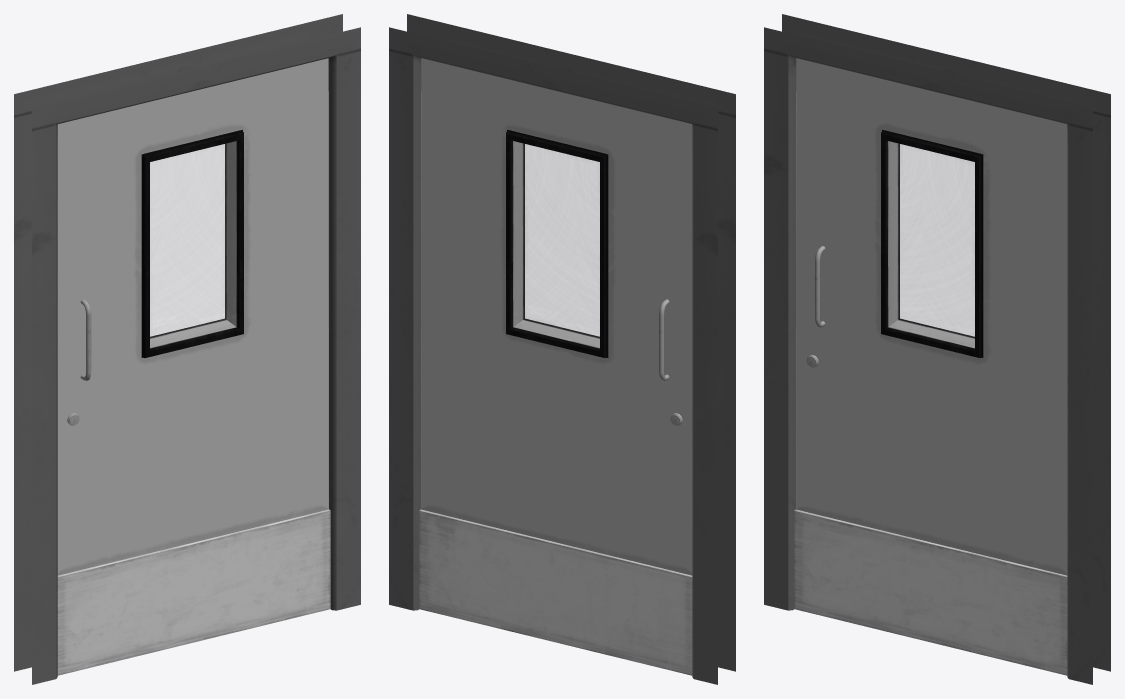
3 renders of one model, left to right at view 1: azimuth 30°, elevation 25°; view 2: azimuth 150°, elevation 25°; view 3: azimuth 330°, elevation 25°, orthographic.
Visible parts, largest first — view 1: Door_Low, Frame_Low, Glass_Low; view 2: Door_Low, Frame_Low, Glass_Low; view 3: Door_Low, Frame_Low, Glass_Low.
Boxes of the visible parts, box(x1,y1,x2,y2) form: Door_Low: box(57, 58, 330, 675); Frame_Low: box(14, 14, 360, 684); Glass_Low: box(150, 141, 235, 347); Door_Low: box(419, 58, 692, 675); Frame_Low: box(389, 14, 735, 684); Glass_Low: box(514, 141, 599, 347); Door_Low: box(794, 58, 1067, 675); Frame_Low: box(764, 14, 1110, 684); Glass_Low: box(889, 141, 974, 347).
Size of the model in its own units: 122 by 204 by 15.27.
1 material, 1 textured.
